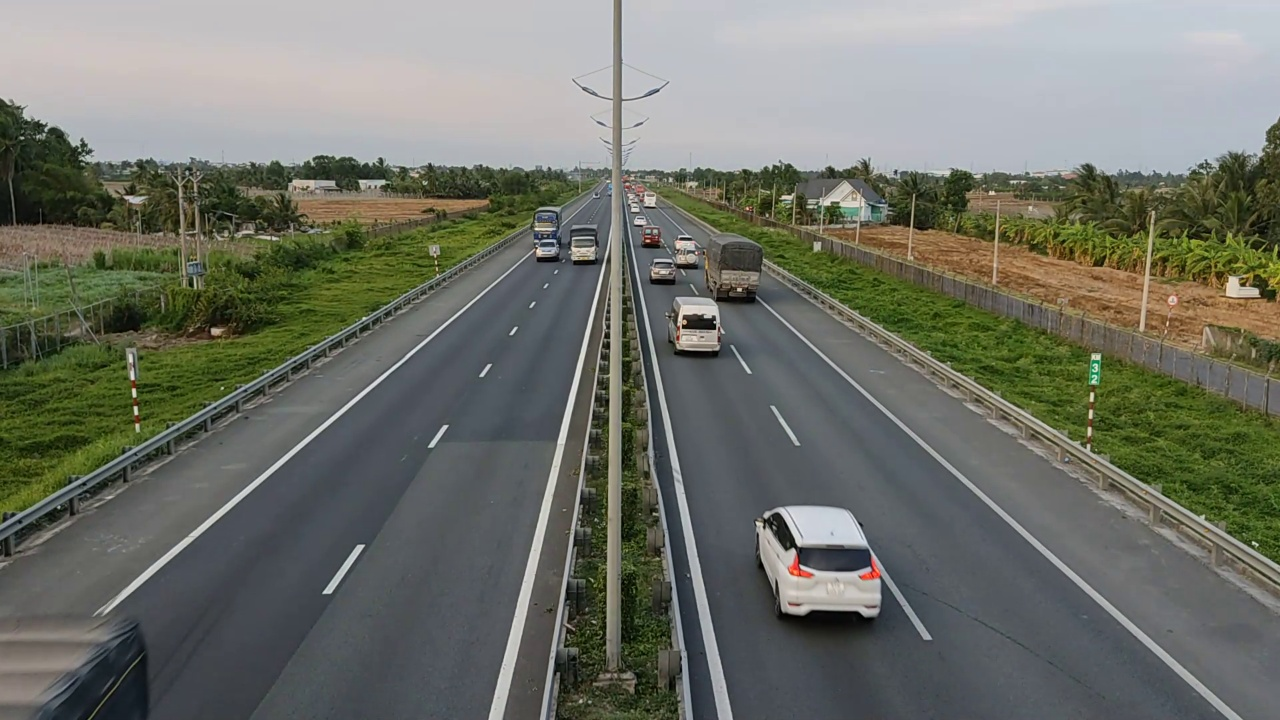car: (753, 505, 883, 620), (665, 295, 724, 355), (649, 257, 677, 283)
truck: (704, 231, 763, 301)
